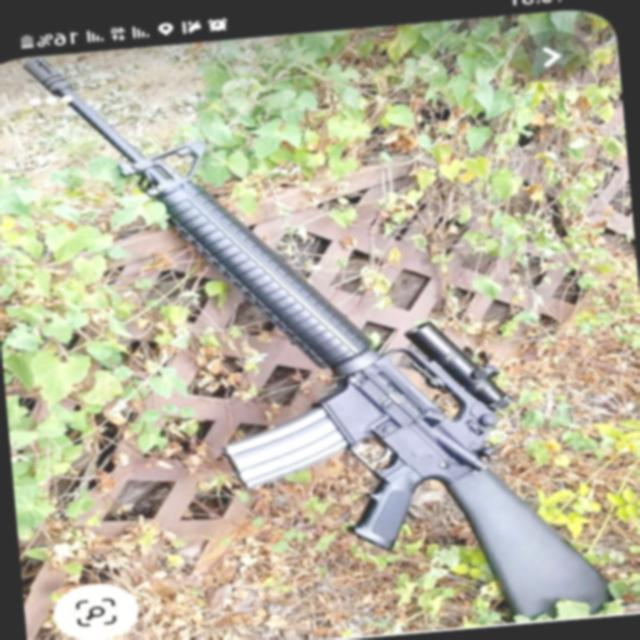m16: (54, 49, 408, 504)
